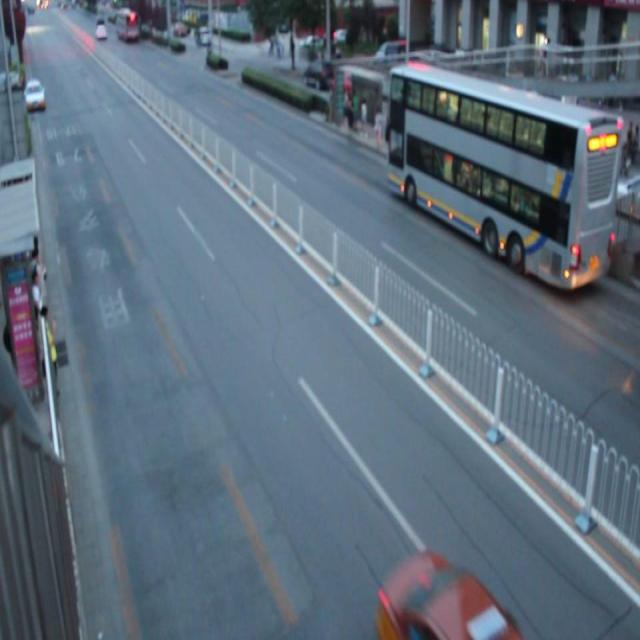car: (381, 553, 516, 640)
van: (386, 63, 618, 291)
